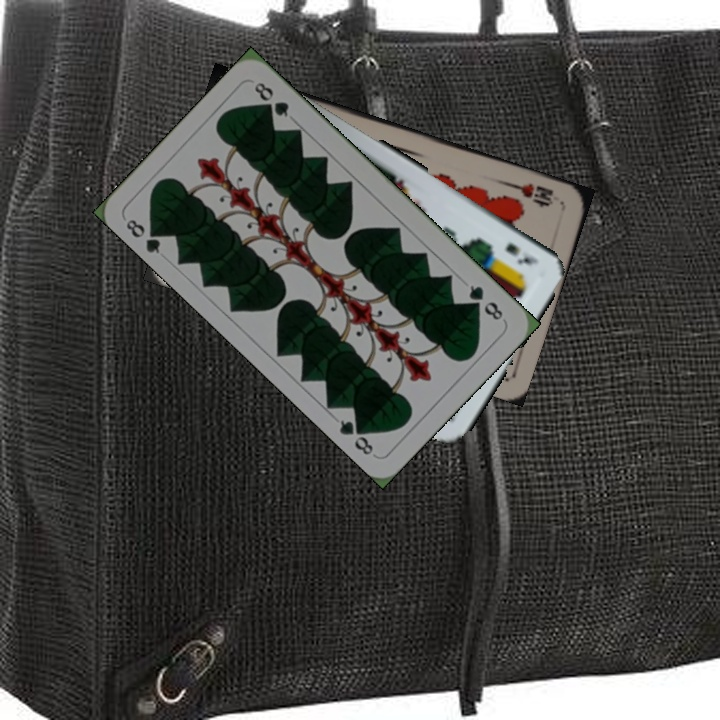EK: (501, 238, 541, 268)
G8: (122, 215, 167, 257), (464, 280, 506, 323)
H10: (506, 179, 556, 209)
